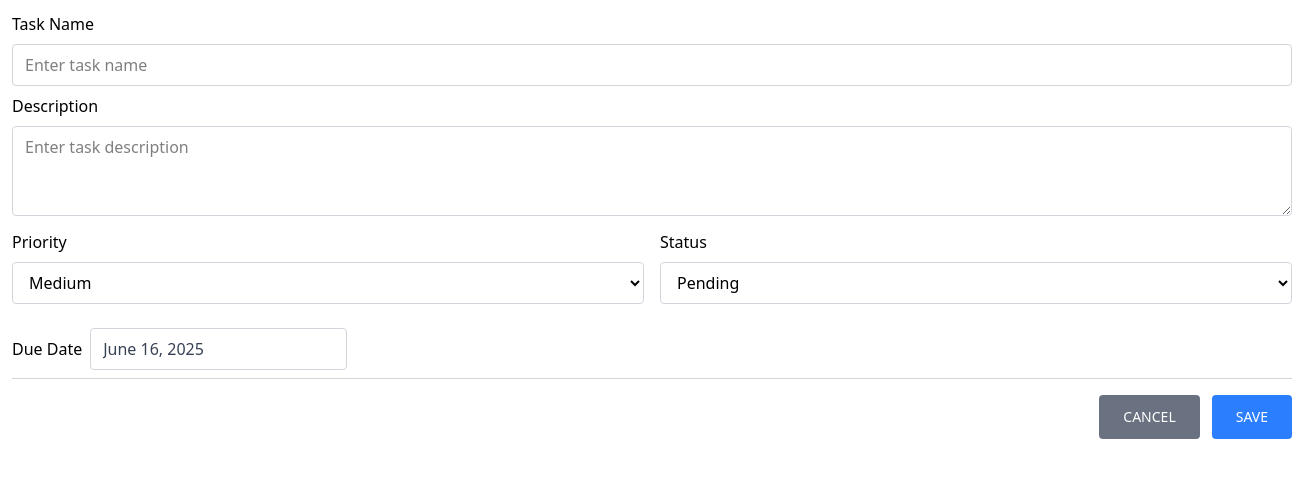
Test: TaskForm › shows error when submitting with empty task name
The image size is (1304, 496).
Click the button "Save".
click(1252, 417)  # box [1212, 395, 1292, 439]
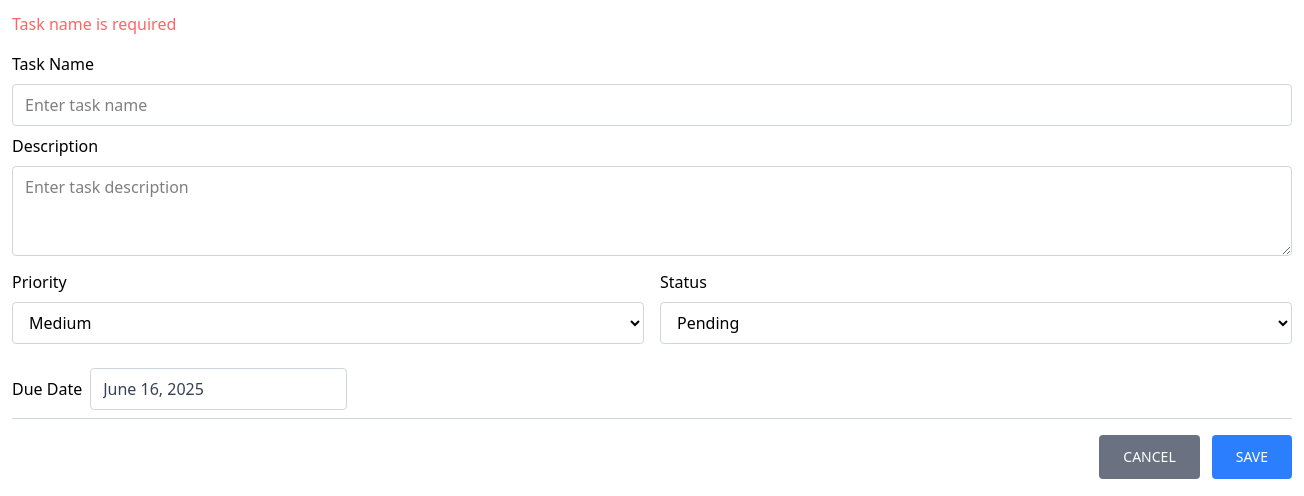
Result: the text "Task name is required" is shown at [12, 13, 176, 35]
